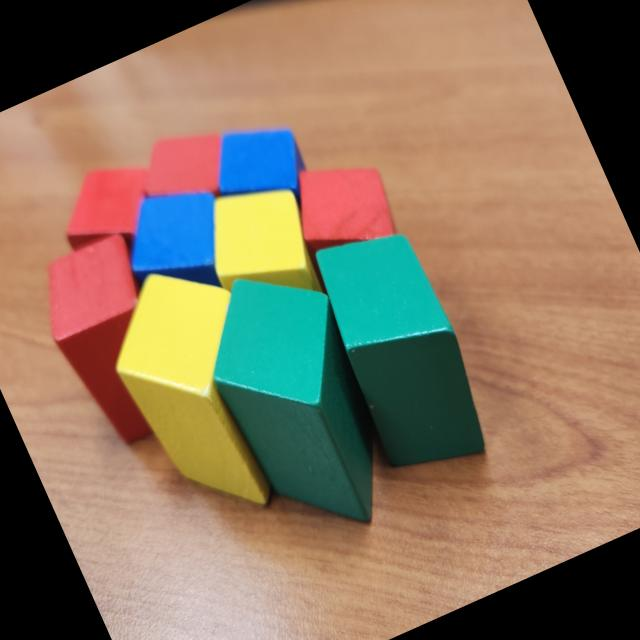blue: (101, 169, 252, 322), (196, 104, 326, 235)
green: (177, 245, 421, 558), (296, 210, 508, 491)
red: (20, 223, 208, 459), (276, 138, 410, 276), (45, 146, 178, 270), (128, 112, 244, 221)
yellow: (85, 247, 318, 542), (187, 167, 339, 334)
